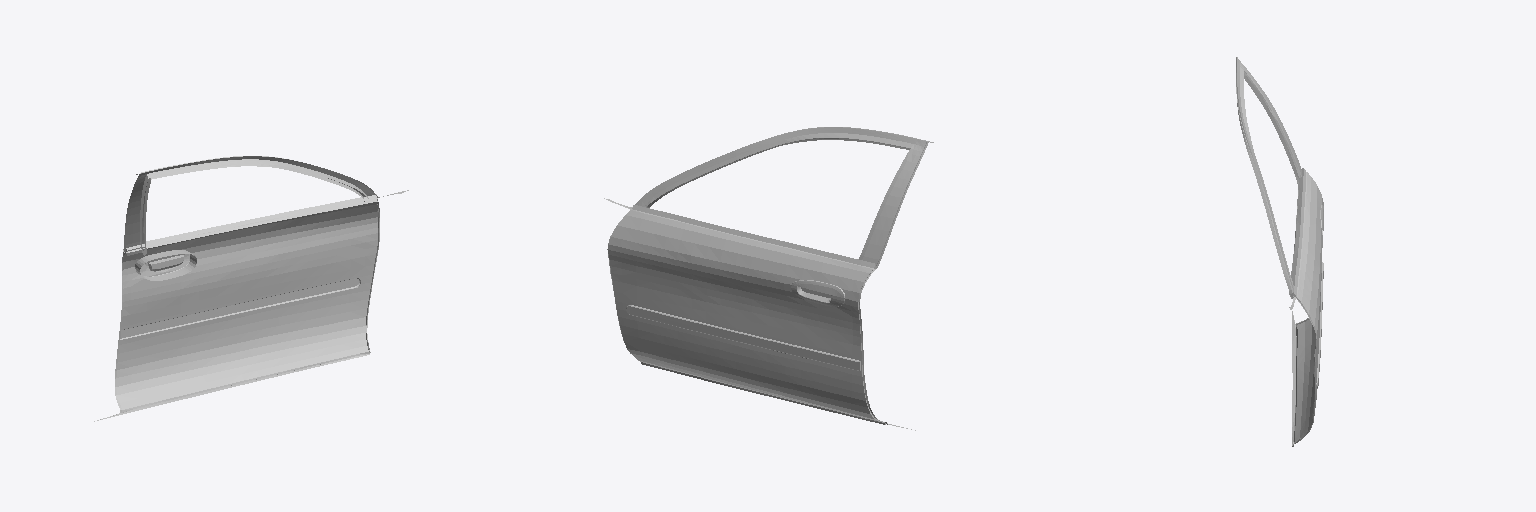
3 views of the same model, side by side, from view 1: azimuth 30°, elevation 25°; view 2: azimuth 150°, elevation 25°; view 3: azimuth 270°, elevation 25° (orthographic).
Parts seen in each view (by area): view 1: P353_20_261B_L_1_DaS_P353_20_261B_L, P353_20_261B_L_P353_20_261B_L_2_D, P353_20_261B_L_1_DaS_P353_20_261B_L_E, P353_20_261B_L_P353_20_261B_L_3_D; view 2: P353_20_261B_L_1_DaS_P353_20_261B_L, P353_20_261B_L_P353_20_261B_L_2_D, P353_20_261B_L_1_DaS_P353_20_261B_L_E, P353_20_261B_L_P353_20_261B_L_3_D; view 3: P353_20_261B_L_1_DaS_P353_20_261B_L, P353_20_261B_L_P353_20_261B_L_2_D, P353_20_261B_L_P353_20_261B_L_3_D, P353_20_261B_L_1_DaS_P353_20_261B_L_E.
Part boxes in pixels (bbox=[...]): P353_20_261B_L_1_DaS_P353_20_261B_L: bbox=[116, 202, 377, 409]; P353_20_261B_L_P353_20_261B_L_2_D: bbox=[125, 156, 377, 255]; P353_20_261B_L_1_DaS_P353_20_261B_L_E: bbox=[120, 204, 378, 412]; P353_20_261B_L_P353_20_261B_L_3_D: bbox=[94, 156, 408, 421]; P353_20_261B_L_1_DaS_P353_20_261B_L: bbox=[608, 209, 878, 421]; P353_20_261B_L_P353_20_261B_L_2_D: bbox=[632, 127, 926, 268]; P353_20_261B_L_1_DaS_P353_20_261B_L_E: bbox=[626, 270, 885, 424]; P353_20_261B_L_P353_20_261B_L_3_D: bbox=[604, 127, 933, 430]; P353_20_261B_L_1_DaS_P353_20_261B_L: bbox=[1294, 172, 1323, 443]; P353_20_261B_L_P353_20_261B_L_2_D: bbox=[1236, 57, 1305, 298]; P353_20_261B_L_P353_20_261B_L_3_D: bbox=[1236, 87, 1316, 446]; P353_20_261B_L_1_DaS_P353_20_261B_L_E: bbox=[1293, 262, 1323, 446].
Bounding box in the file's own units: 151 × 119 × 36.32.